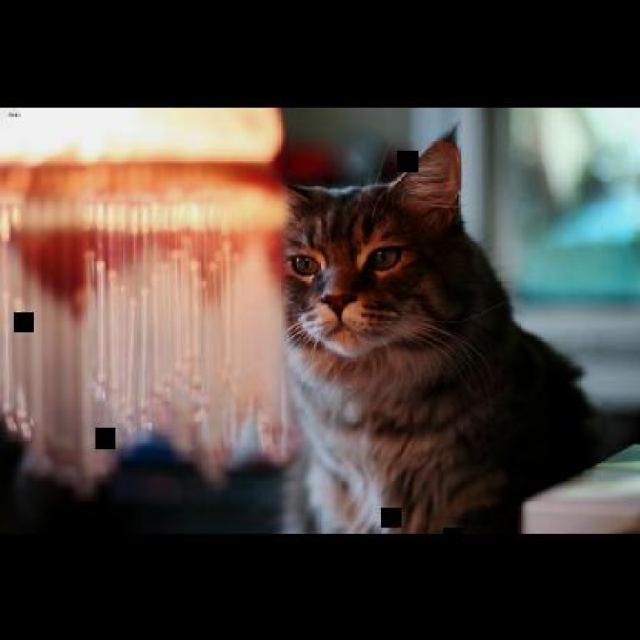unauthorized: (276, 120, 606, 535)
